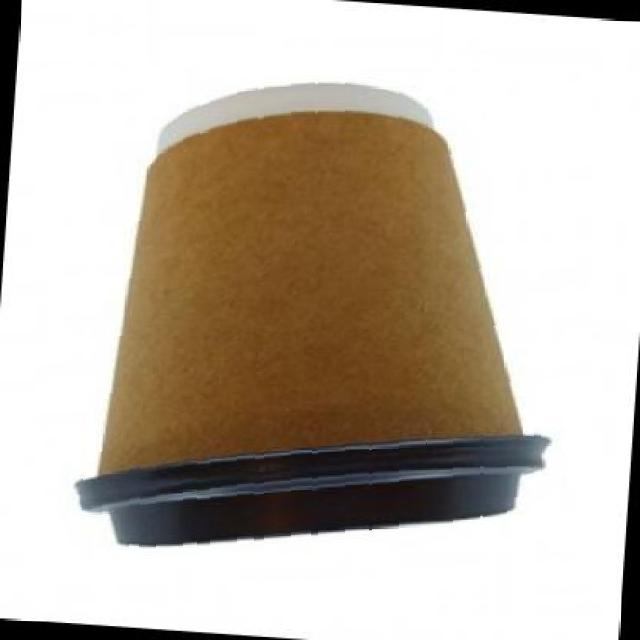non-biodegradable: (34, 67, 592, 615)
